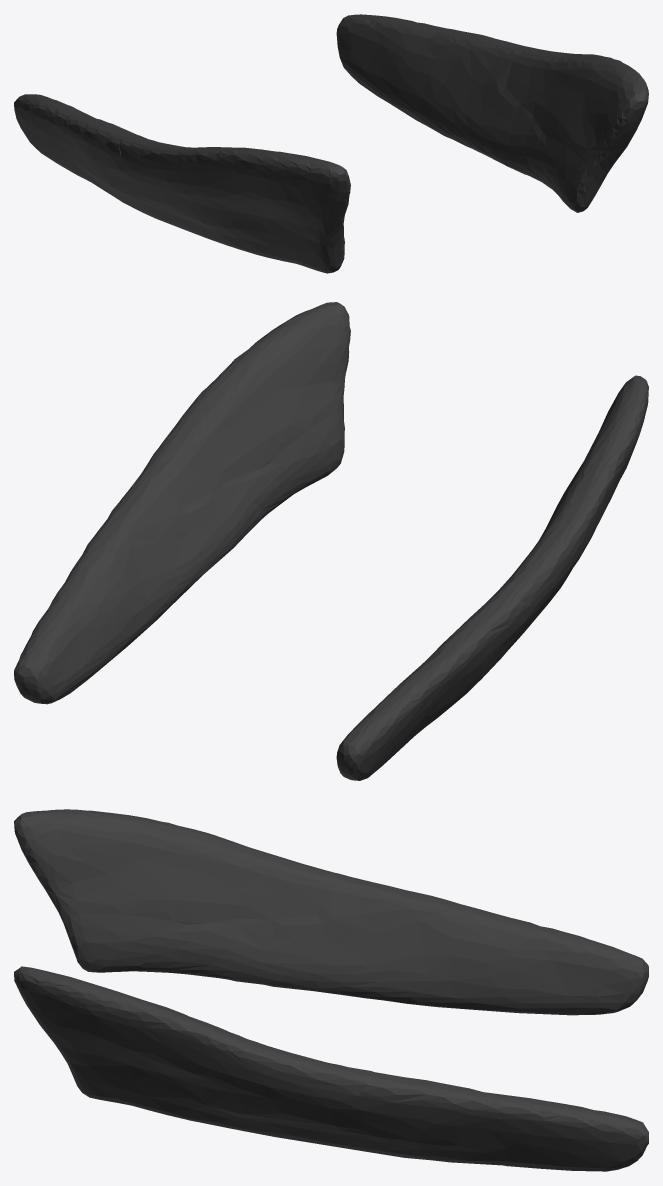
File: m_levator_labii_superioris.glb
3 renders of one model, top to bottom at view 1: azimuth 30°, elevation 25°; view 2: azimuth 150°, elevation 25°; view 3: azimuth 270°, elevation 25°, orthographic. The views are drawn at different scales.
Visible parts, largest first — view 1: m_levator_labii_superioris; view 2: m_levator_labii_superioris; view 3: m_levator_labii_superioris.
Boxes of the visible parts, x1=… form: m_levator_labii_superioris: x1=14, y1=14, x2=648, y2=273; m_levator_labii_superioris: x1=14, y1=302, x2=648, y2=780; m_levator_labii_superioris: x1=14, y1=809, x2=648, y2=1171.
Size of the model in its own units: 0.0011 by 0.000496 by 0.00142.
Materials: 1 (1 with a texture image).
